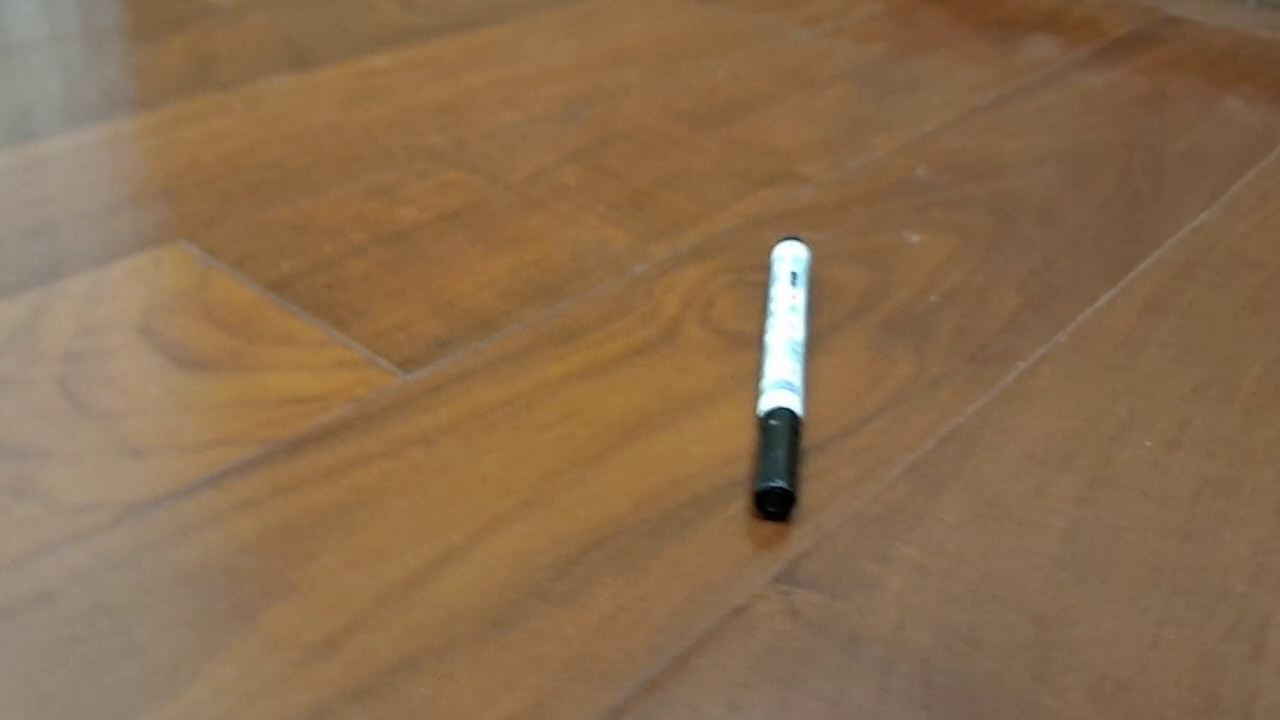pen: (752, 235, 814, 522)
